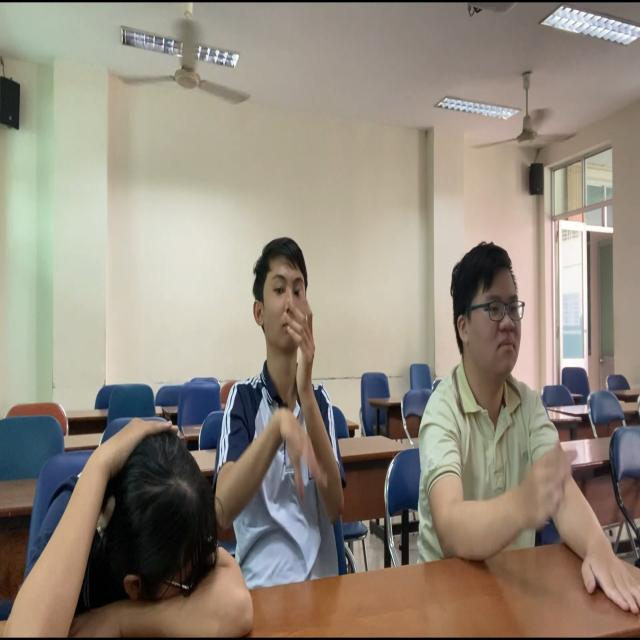sleep: (7, 415, 259, 640)
